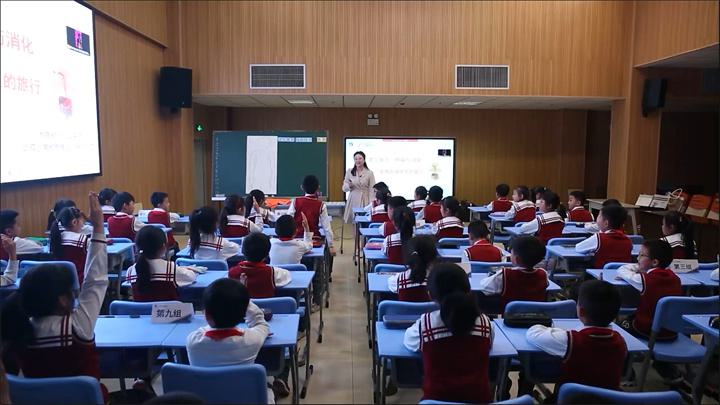bow: (460, 217, 497, 258)
hands-up: (32, 193, 108, 343), (267, 211, 315, 282), (223, 192, 266, 236)
listen: (528, 279, 627, 355), (410, 273, 494, 359), (192, 282, 253, 359), (125, 230, 194, 294), (608, 238, 676, 290), (223, 237, 286, 284), (584, 201, 624, 256), (385, 202, 419, 254), (107, 186, 138, 229), (147, 189, 180, 221)
stand: (290, 172, 329, 233)
